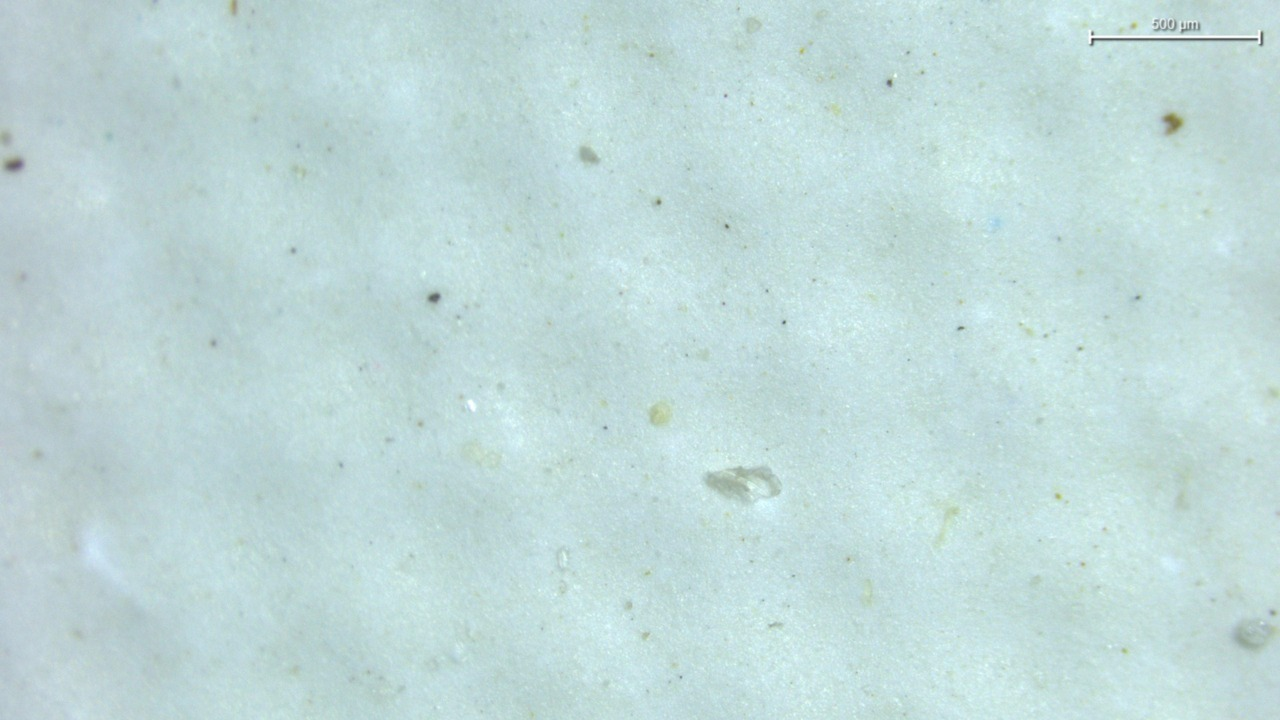microplastic_fragment: (704, 467, 781, 504)
